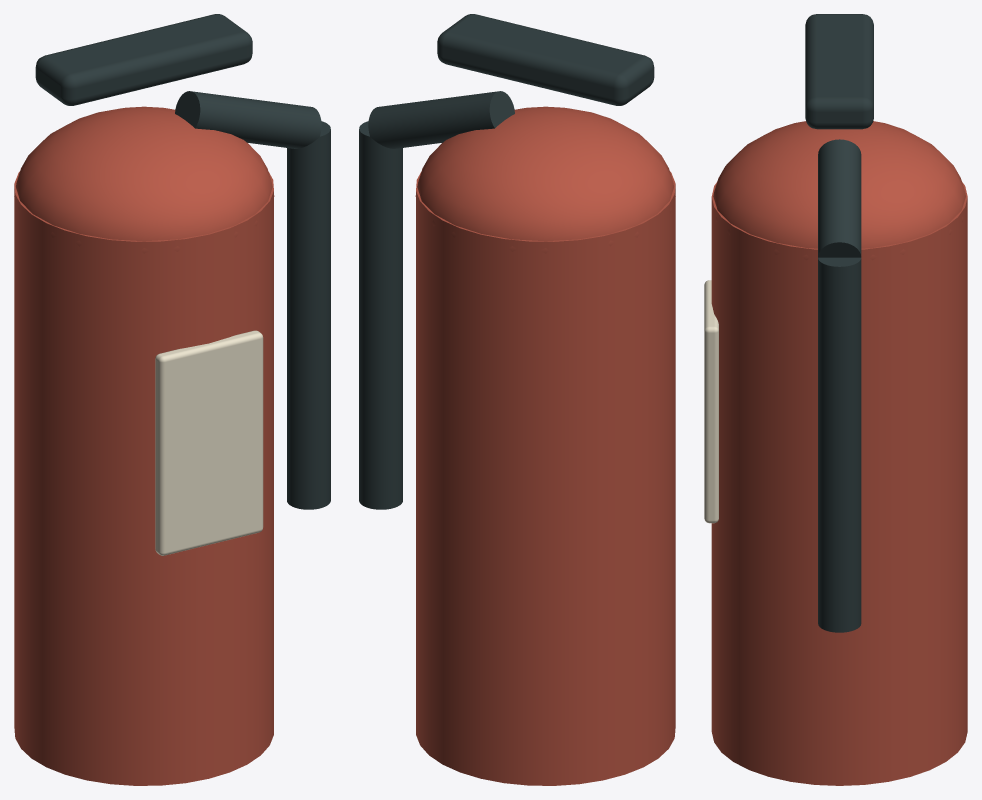
File: extinguisher.glb
The picture shows the model from 3 angles, left to right: view 1: azimuth 30°, elevation 25°; view 2: azimuth 150°, elevation 25°; view 3: azimuth 270°, elevation 25°; orthographic projection.
Visible parts, largest first — view 1: extinguisher; view 2: extinguisher; view 3: extinguisher.
Boxes of the visible parts, x1=… form: extinguisher: x1=14, y1=14, x2=330, y2=785; extinguisher: x1=359, y1=14, x2=675, y2=785; extinguisher: x1=704, y1=14, x2=967, y2=785.
Size of the model in its own units: 0.342 by 0.7575 by 0.2675.
